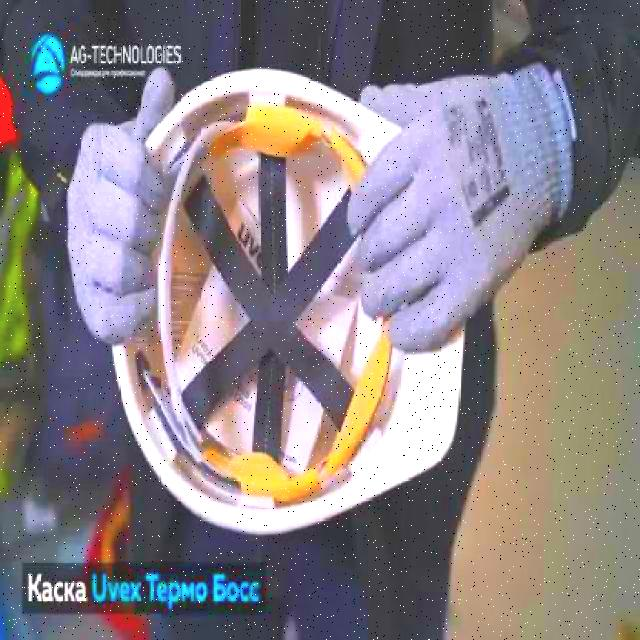Gloves: (347, 58, 576, 360), (64, 66, 174, 343)
Helmet: (109, 64, 468, 540)
